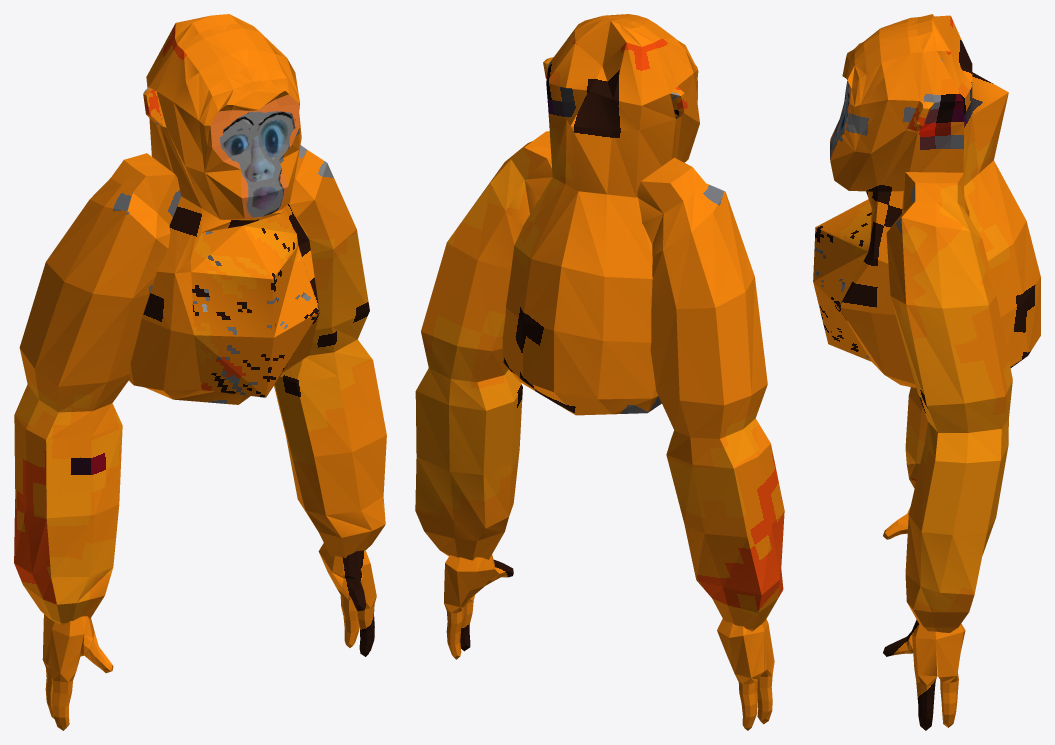
The model's file is mymonkeyforgabe.fbx.
3 views of the same model, side by side, from view 1: azimuth 30°, elevation 25°; view 2: azimuth 150°, elevation 25°; view 3: azimuth 270°, elevation 25° (orthographic). The views are drawn at different scales.
Visible parts, largest first — view 1: GorillaBody_Scene.001, Uneditable_Scene.002; view 2: GorillaBody_Scene.001; view 3: GorillaBody_Scene.001, Uneditable_Scene.002.
Boxes of the visible parts, bbox=[...] form: GorillaBody_Scene.001: bbox=[14, 14, 386, 730]; Uneditable_Scene.002: bbox=[143, 87, 319, 397]; GorillaBody_Scene.001: bbox=[415, 14, 784, 730]; GorillaBody_Scene.001: bbox=[830, 14, 1040, 730]; Uneditable_Scene.002: bbox=[813, 80, 933, 361].
Size of the model in its own units: 68.47 by 127 by 40.71.
